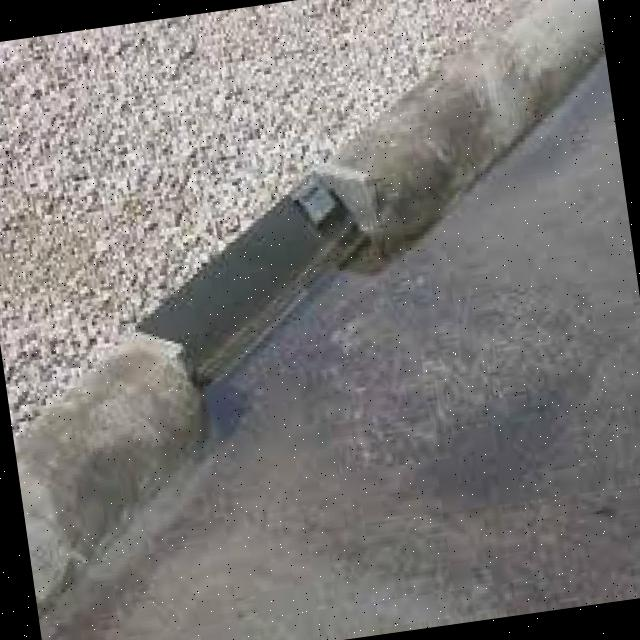curb: (1, 224, 302, 557), (234, 80, 451, 343), (427, 1, 616, 182)
